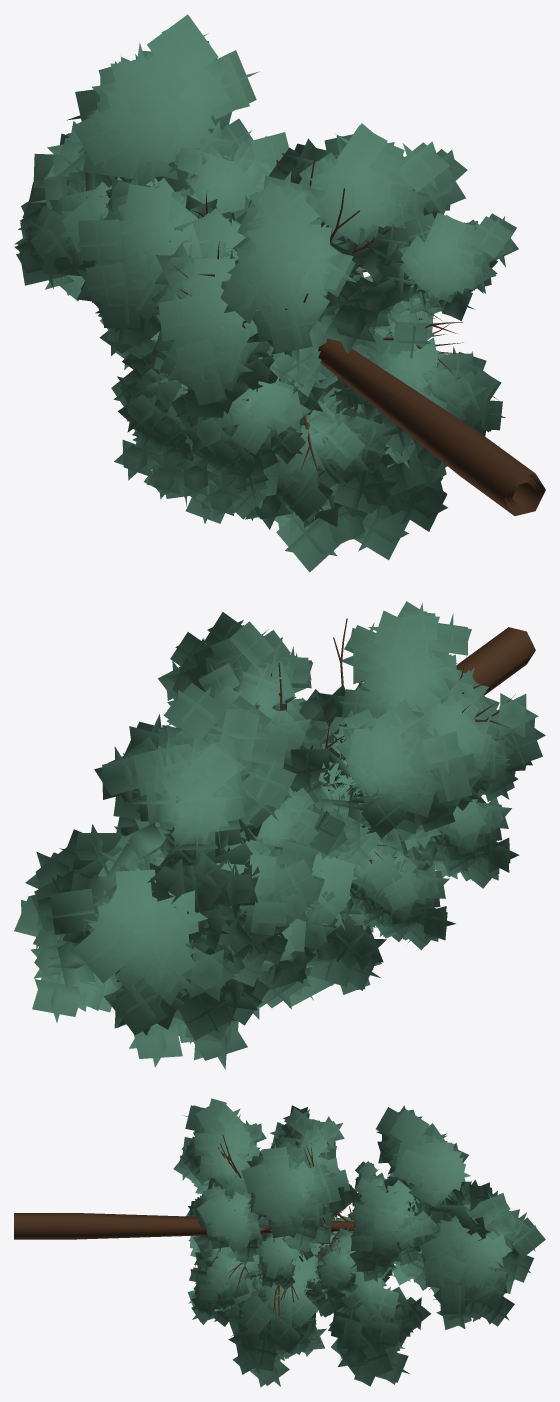
File: Mountain Pine.fbx
3 views of the same model, one above another, from view 1: azimuth 30°, elevation 25°; view 2: azimuth 150°, elevation 25°; view 3: azimuth 270°, elevation 25° (orthographic). The views are drawn at different scales.
Visible parts, largest first — view 1: Mountain Pine 3 LOD 0, Mountain Pine 1 LOD 0, Mountain Pine 2 LOD 0; view 2: Mountain Pine 3 LOD 0, Mountain Pine 1 LOD 0, Mountain Pine 2 LOD 0; view 3: Mountain Pine 3 LOD 0, Mountain Pine 1 LOD 0, Mountain Pine 2 LOD 0.
Part boxes in pixels (box(x1,y1,x2,y2)): Mountain Pine 3 LOD 0: box(16, 14, 545, 572); Mountain Pine 1 LOD 0: box(14, 123, 537, 529); Mountain Pine 2 LOD 0: box(84, 118, 540, 519); Mountain Pine 3 LOD 0: box(14, 627, 545, 1069); Mountain Pine 1 LOD 0: box(114, 601, 486, 994); Mountain Pine 2 LOD 0: box(133, 630, 519, 988); Mountain Pine 3 LOD 0: box(14, 1105, 545, 1387); Mountain Pine 1 LOD 0: box(173, 1098, 470, 1326); Mountain Pine 2 LOD 0: box(186, 1158, 427, 1324).
Size of what is drawn, in the model's own units: 3953 by 4618 by 8682.
